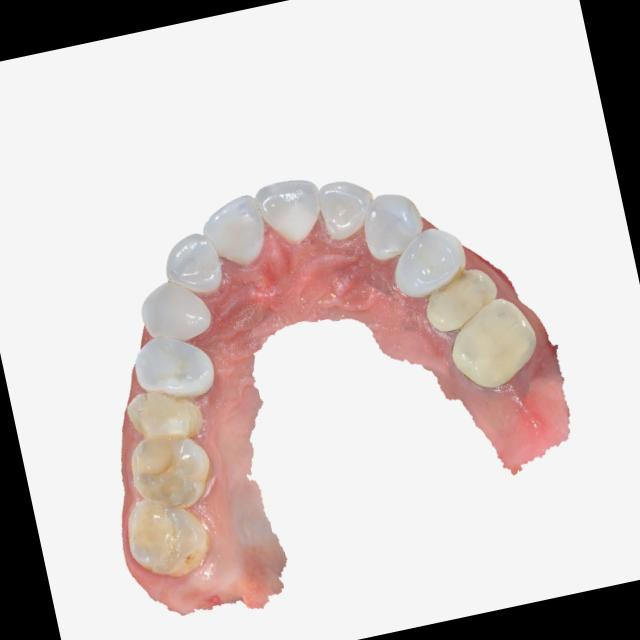tooth: (111, 482, 231, 598), (436, 290, 550, 404), (187, 180, 288, 297), (117, 416, 226, 521), (241, 158, 337, 266), (374, 215, 478, 311), (124, 321, 228, 413), (351, 175, 437, 284), (411, 255, 510, 346), (129, 269, 228, 354), (153, 222, 243, 315), (117, 378, 218, 455), (303, 161, 382, 258)
